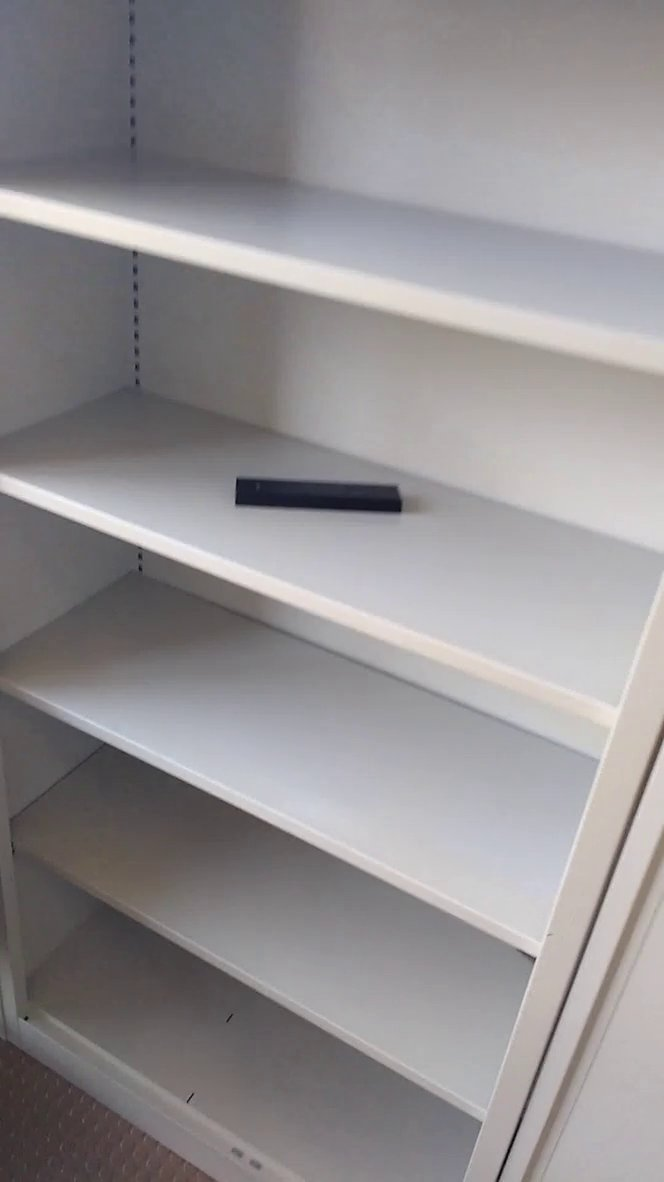remote: (225, 470, 409, 527)
